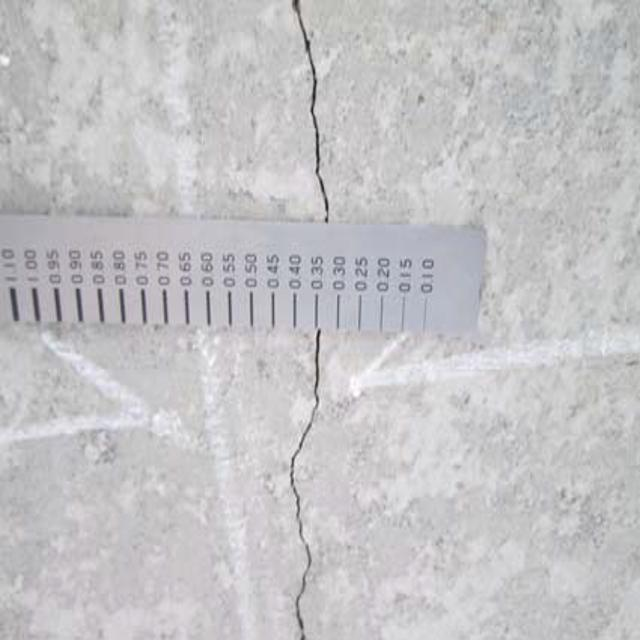crack: (281, 338, 348, 640), (284, 0, 357, 246)
